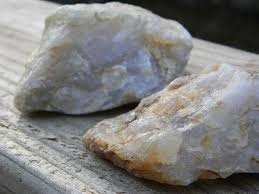obstacle: (82, 64, 257, 184), (16, 3, 191, 114)
